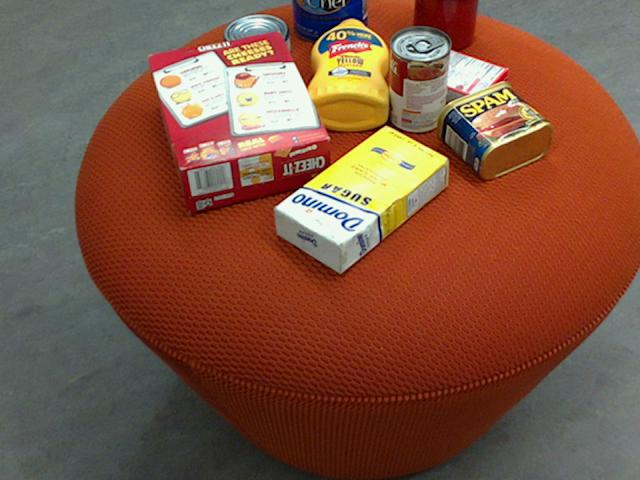cracker_box: (145, 29, 330, 209)
gelatin_box: (416, 49, 508, 115)
large_marker: (428, 0, 452, 44)
master_chef_can: (290, 0, 366, 42)
mug: (411, 0, 477, 51)
mustard_bottle: (304, 18, 387, 130)
potted_meat_can: (434, 81, 550, 179)
sugar_box: (273, 124, 449, 274)
tomato_soup_can: (388, 25, 450, 132)
tuna_fish_can: (220, 14, 288, 69)
